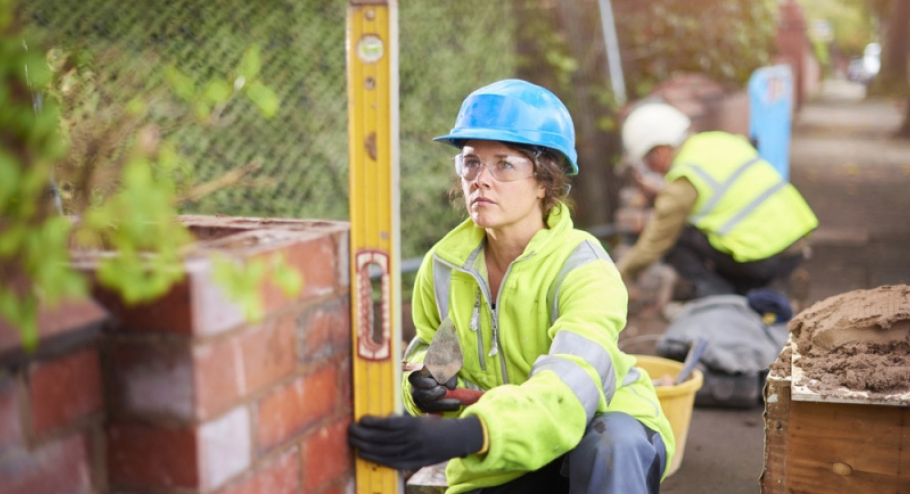hard hat: (432, 79, 579, 176), (621, 102, 691, 160)
high-vis: (412, 198, 670, 484), (667, 130, 819, 263)
